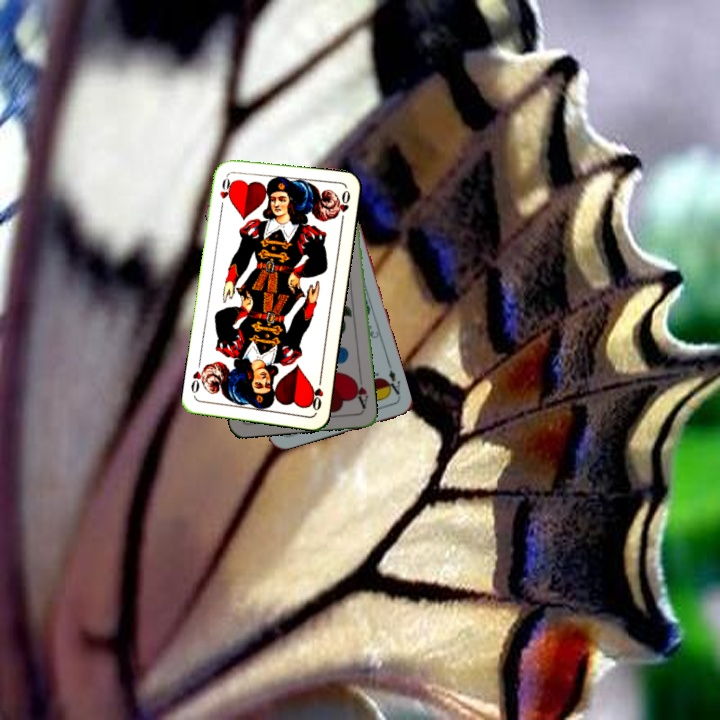EA: (381, 361, 403, 400)
HA: (350, 371, 370, 411)
HO: (306, 374, 326, 413), (216, 170, 235, 203)
